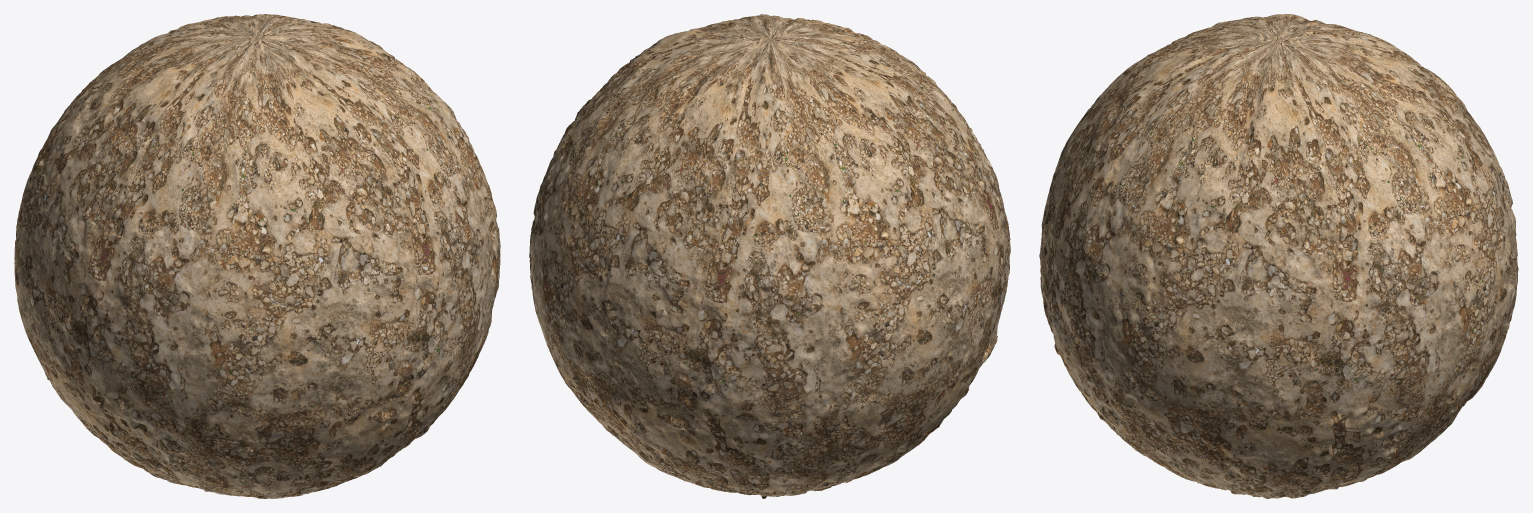
File: coral_mud_01_1k.gltf
3 views of the same model, side by side, from view 1: azimuth 30°, elevation 25°; view 2: azimuth 150°, elevation 25°; view 3: azimuth 270°, elevation 25° (orthographic).
Visible parts, largest first — view 1: sphere_gltf.001; view 2: sphere_gltf.001; view 3: sphere_gltf.001.
Part boxes in pixels (x1=…): sphere_gltf.001: x1=14, y1=14, x2=500, y2=498; sphere_gltf.001: x1=529, y1=14, x2=1010, y2=498; sphere_gltf.001: x1=1039, y1=14, x2=1518, y2=498.
Size of the model in its own units: 2.01 by 2.03 by 2.01.
Materials: 1 (1 with a texture image).
